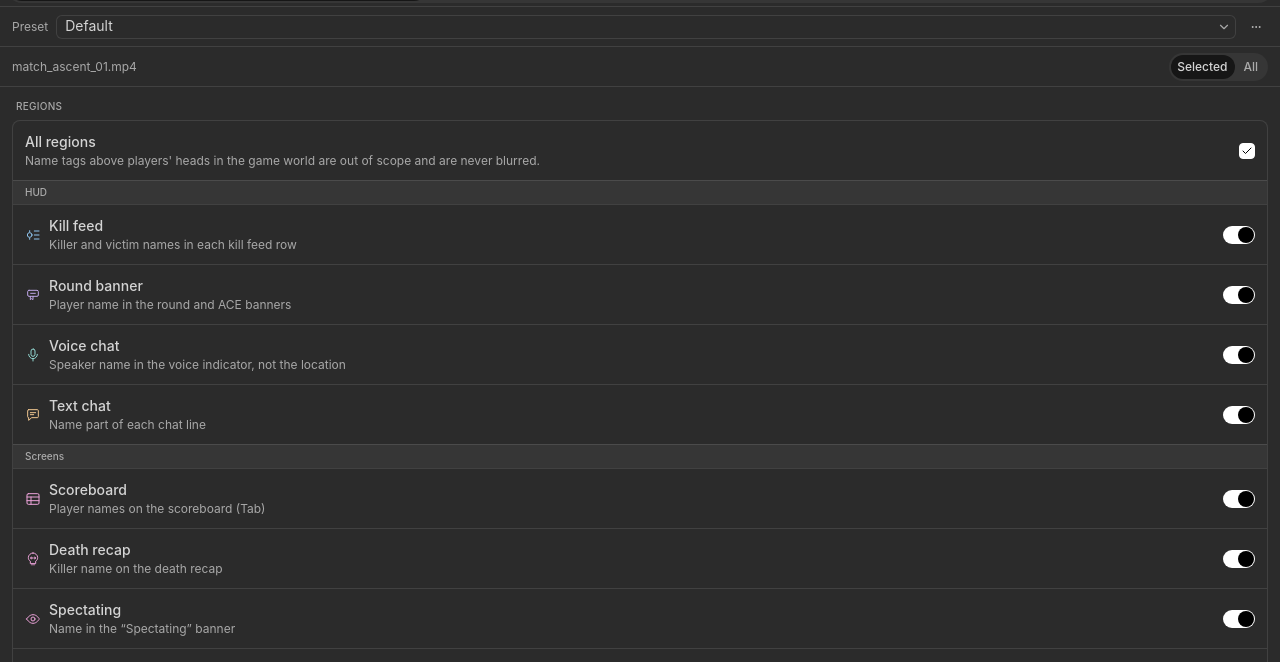
Test: inspector › applies presets, marks changes and resets them
Press Enter in the dropdown named "Preset", box x1=56 y1=14 x2=1236 y2=38
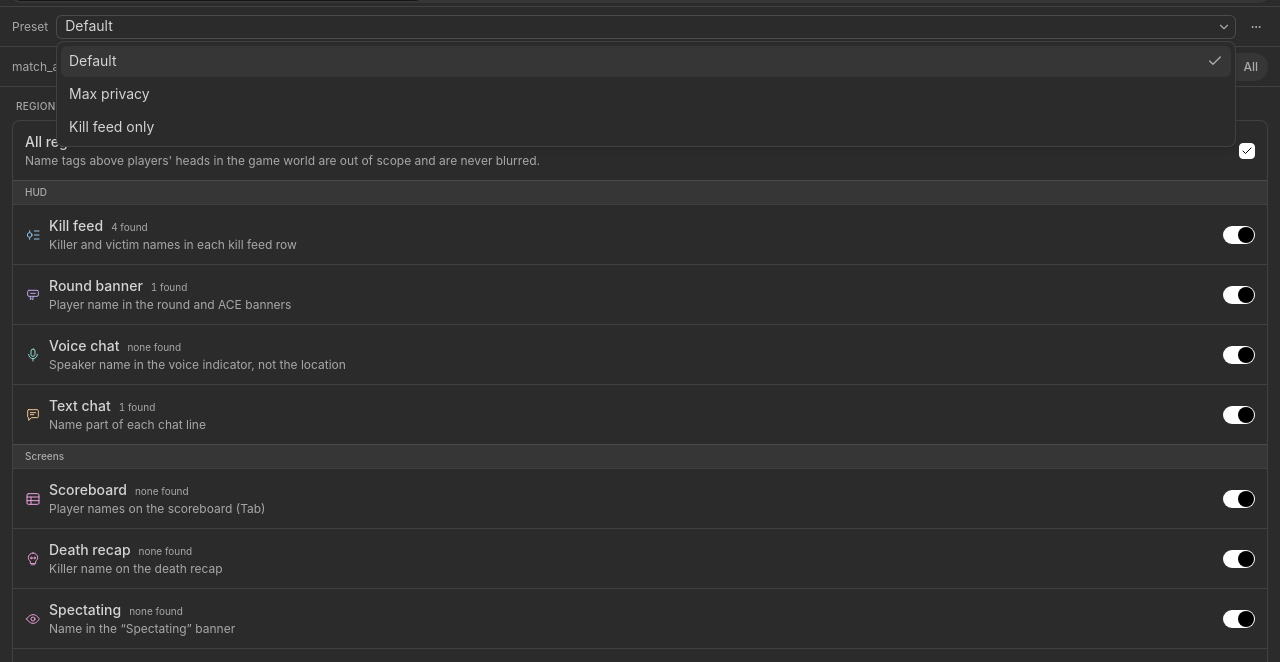
Click the option "Max privacy" at (109, 93), box x1=69 y1=85 x2=150 y2=102
(page scrolled)
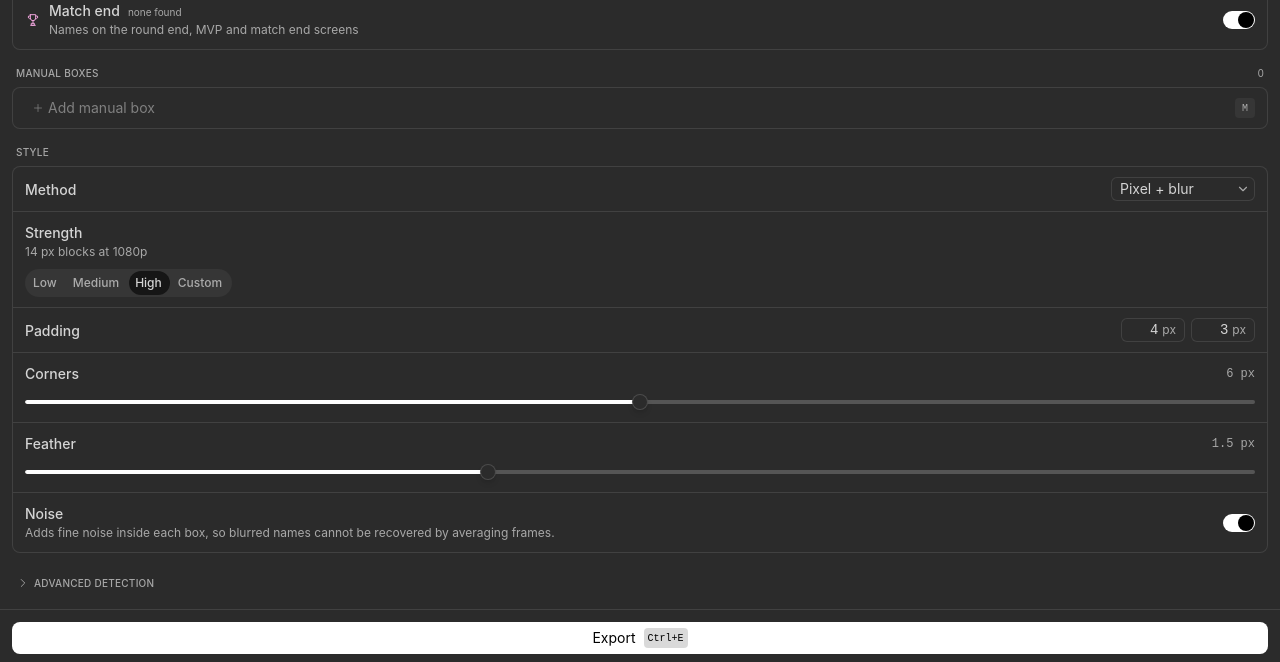
Click the switch below "1.5 px" at (1239, 522), box x1=1223 y1=514 x2=1255 y2=532
(page scrolled)
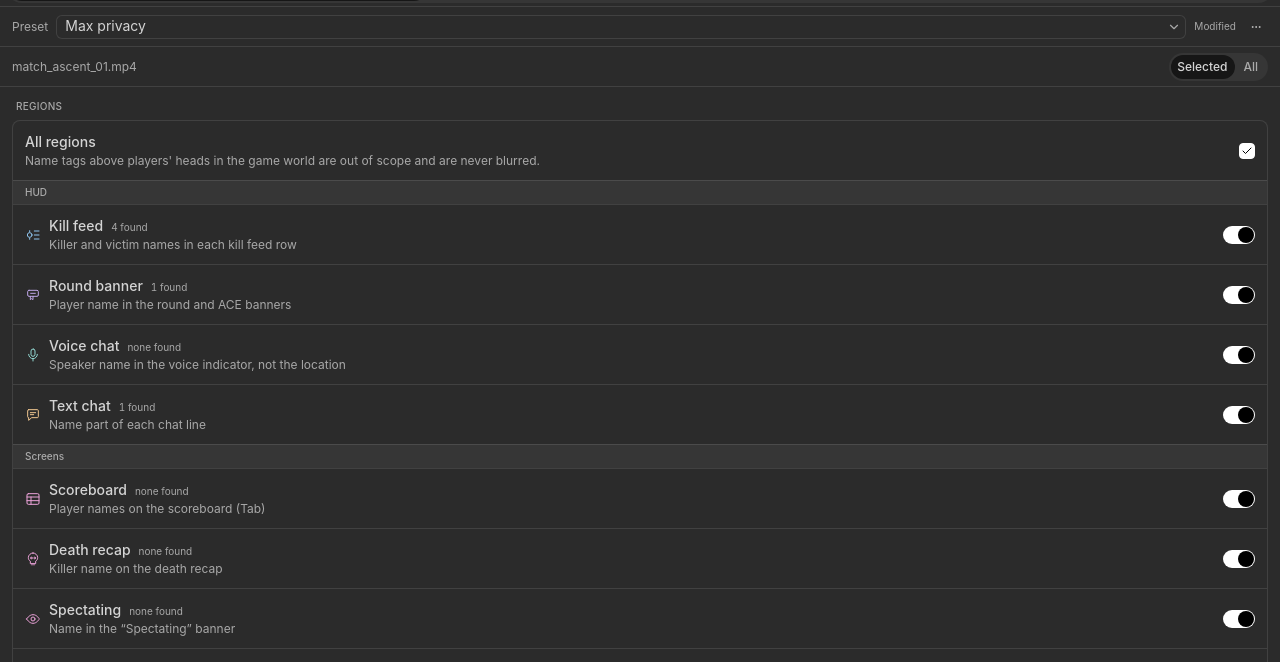
Check: the text "Modified" is shown, box x1=1194 y1=19 x2=1236 y2=34
Press Enter in the button named "Preset actions", box x1=1244 y1=14 x2=1268 y2=38
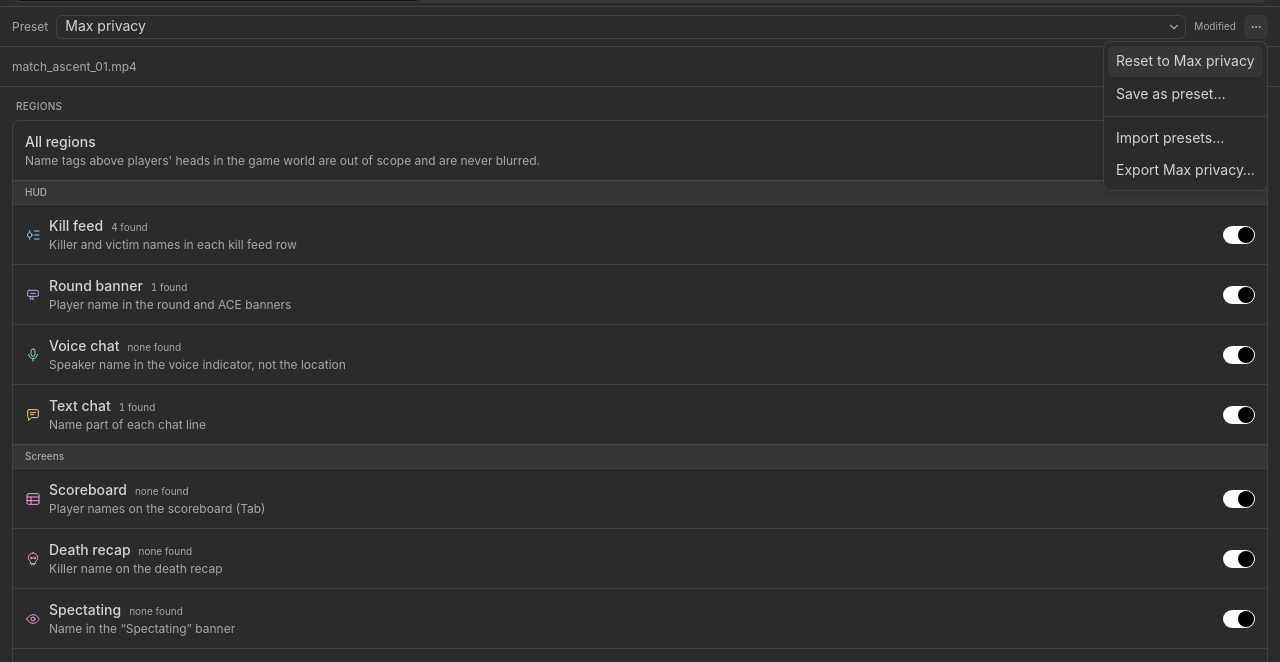
Click the menu item "Reset to Max privacy" at (1185, 61), box x1=1108 y1=46 x2=1263 y2=77
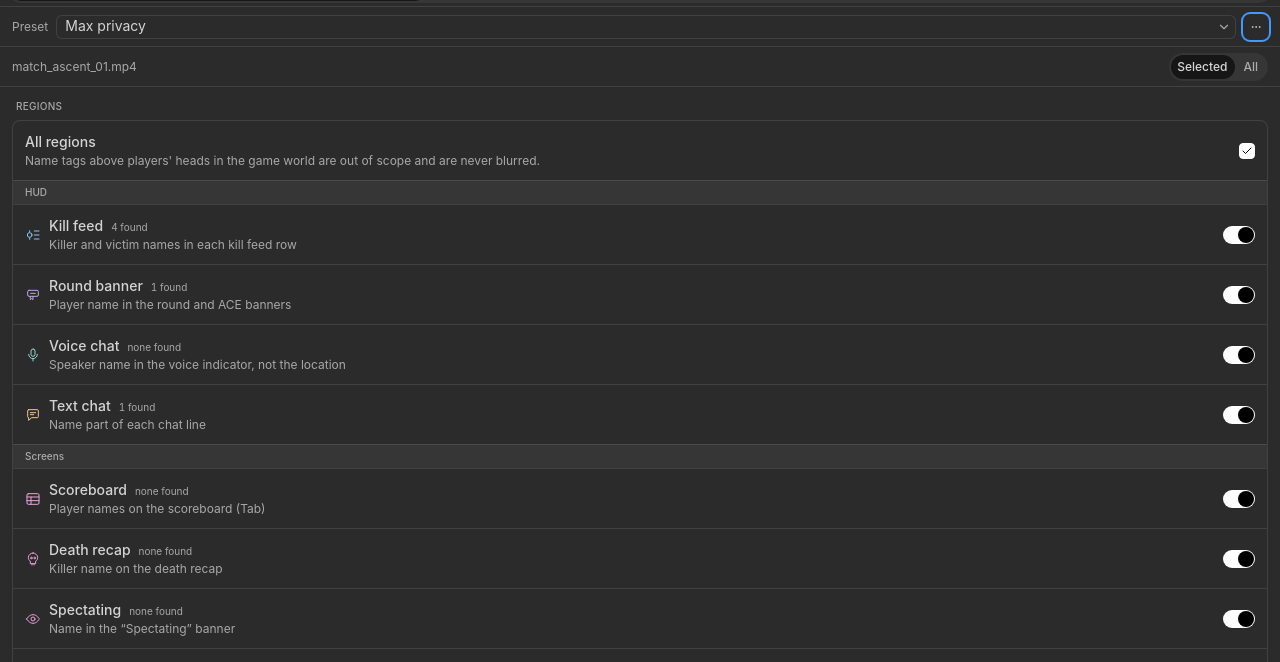
Check: the text with test id "preset-modified" is gone
